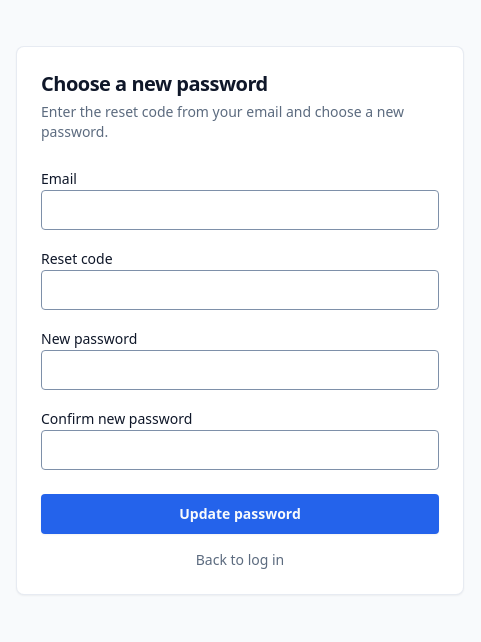
Test case: ResetPasswordPage › requires an email and reset code before submitting
Step 1. Click the button "Update password" → (240, 514), box 41,494 -> 439,534
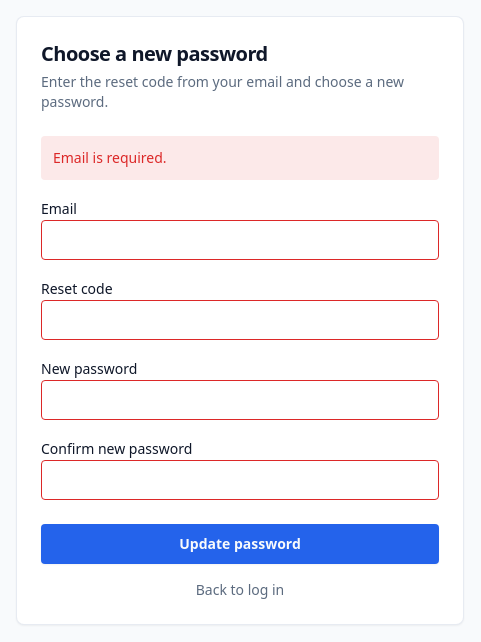
Expected: the text "Email is required." is shown, 41,136 -> 439,180
Expected: the message reads "Email is required.", 53,148 -> 167,166
Step 2. Type "sarah@example.com" into the field labelled "Email" → (240, 240), box 41,220 -> 439,260
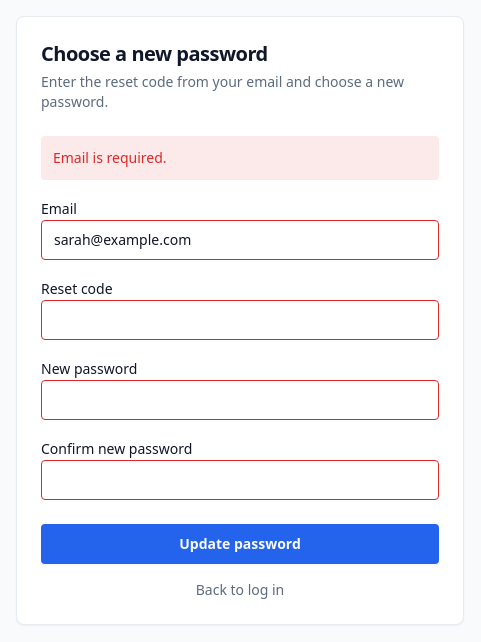
Step 3. Click the button "Update password" → (240, 544), box 41,524 -> 439,564
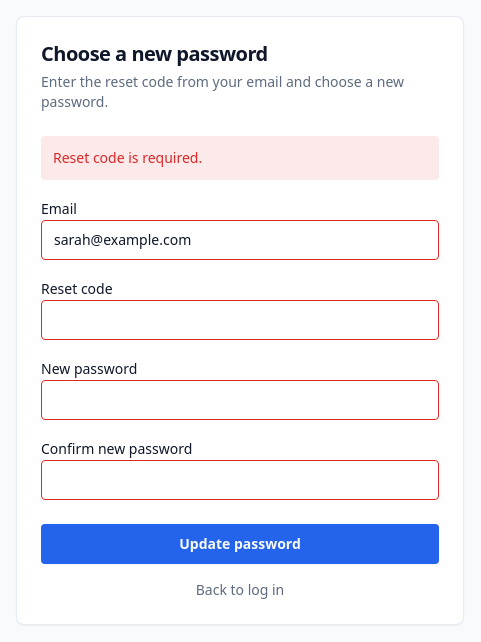
Expected: the text "Reset code is required." is shown, 41,136 -> 439,180
Expected: the message reads "Reset code is required.", 53,148 -> 202,166
